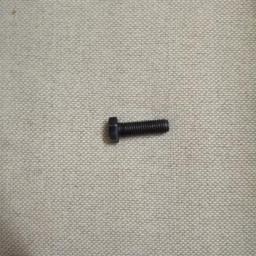screwtype2black: (105, 115, 170, 143)
